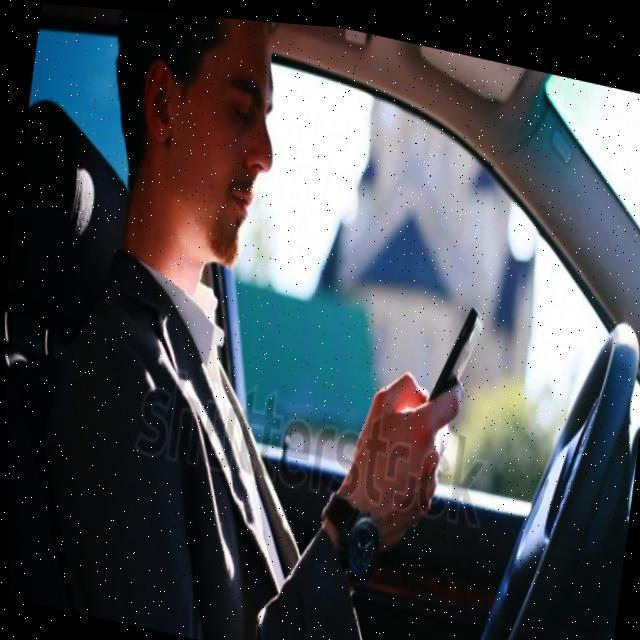PhoneCall: (424, 291, 486, 429)
